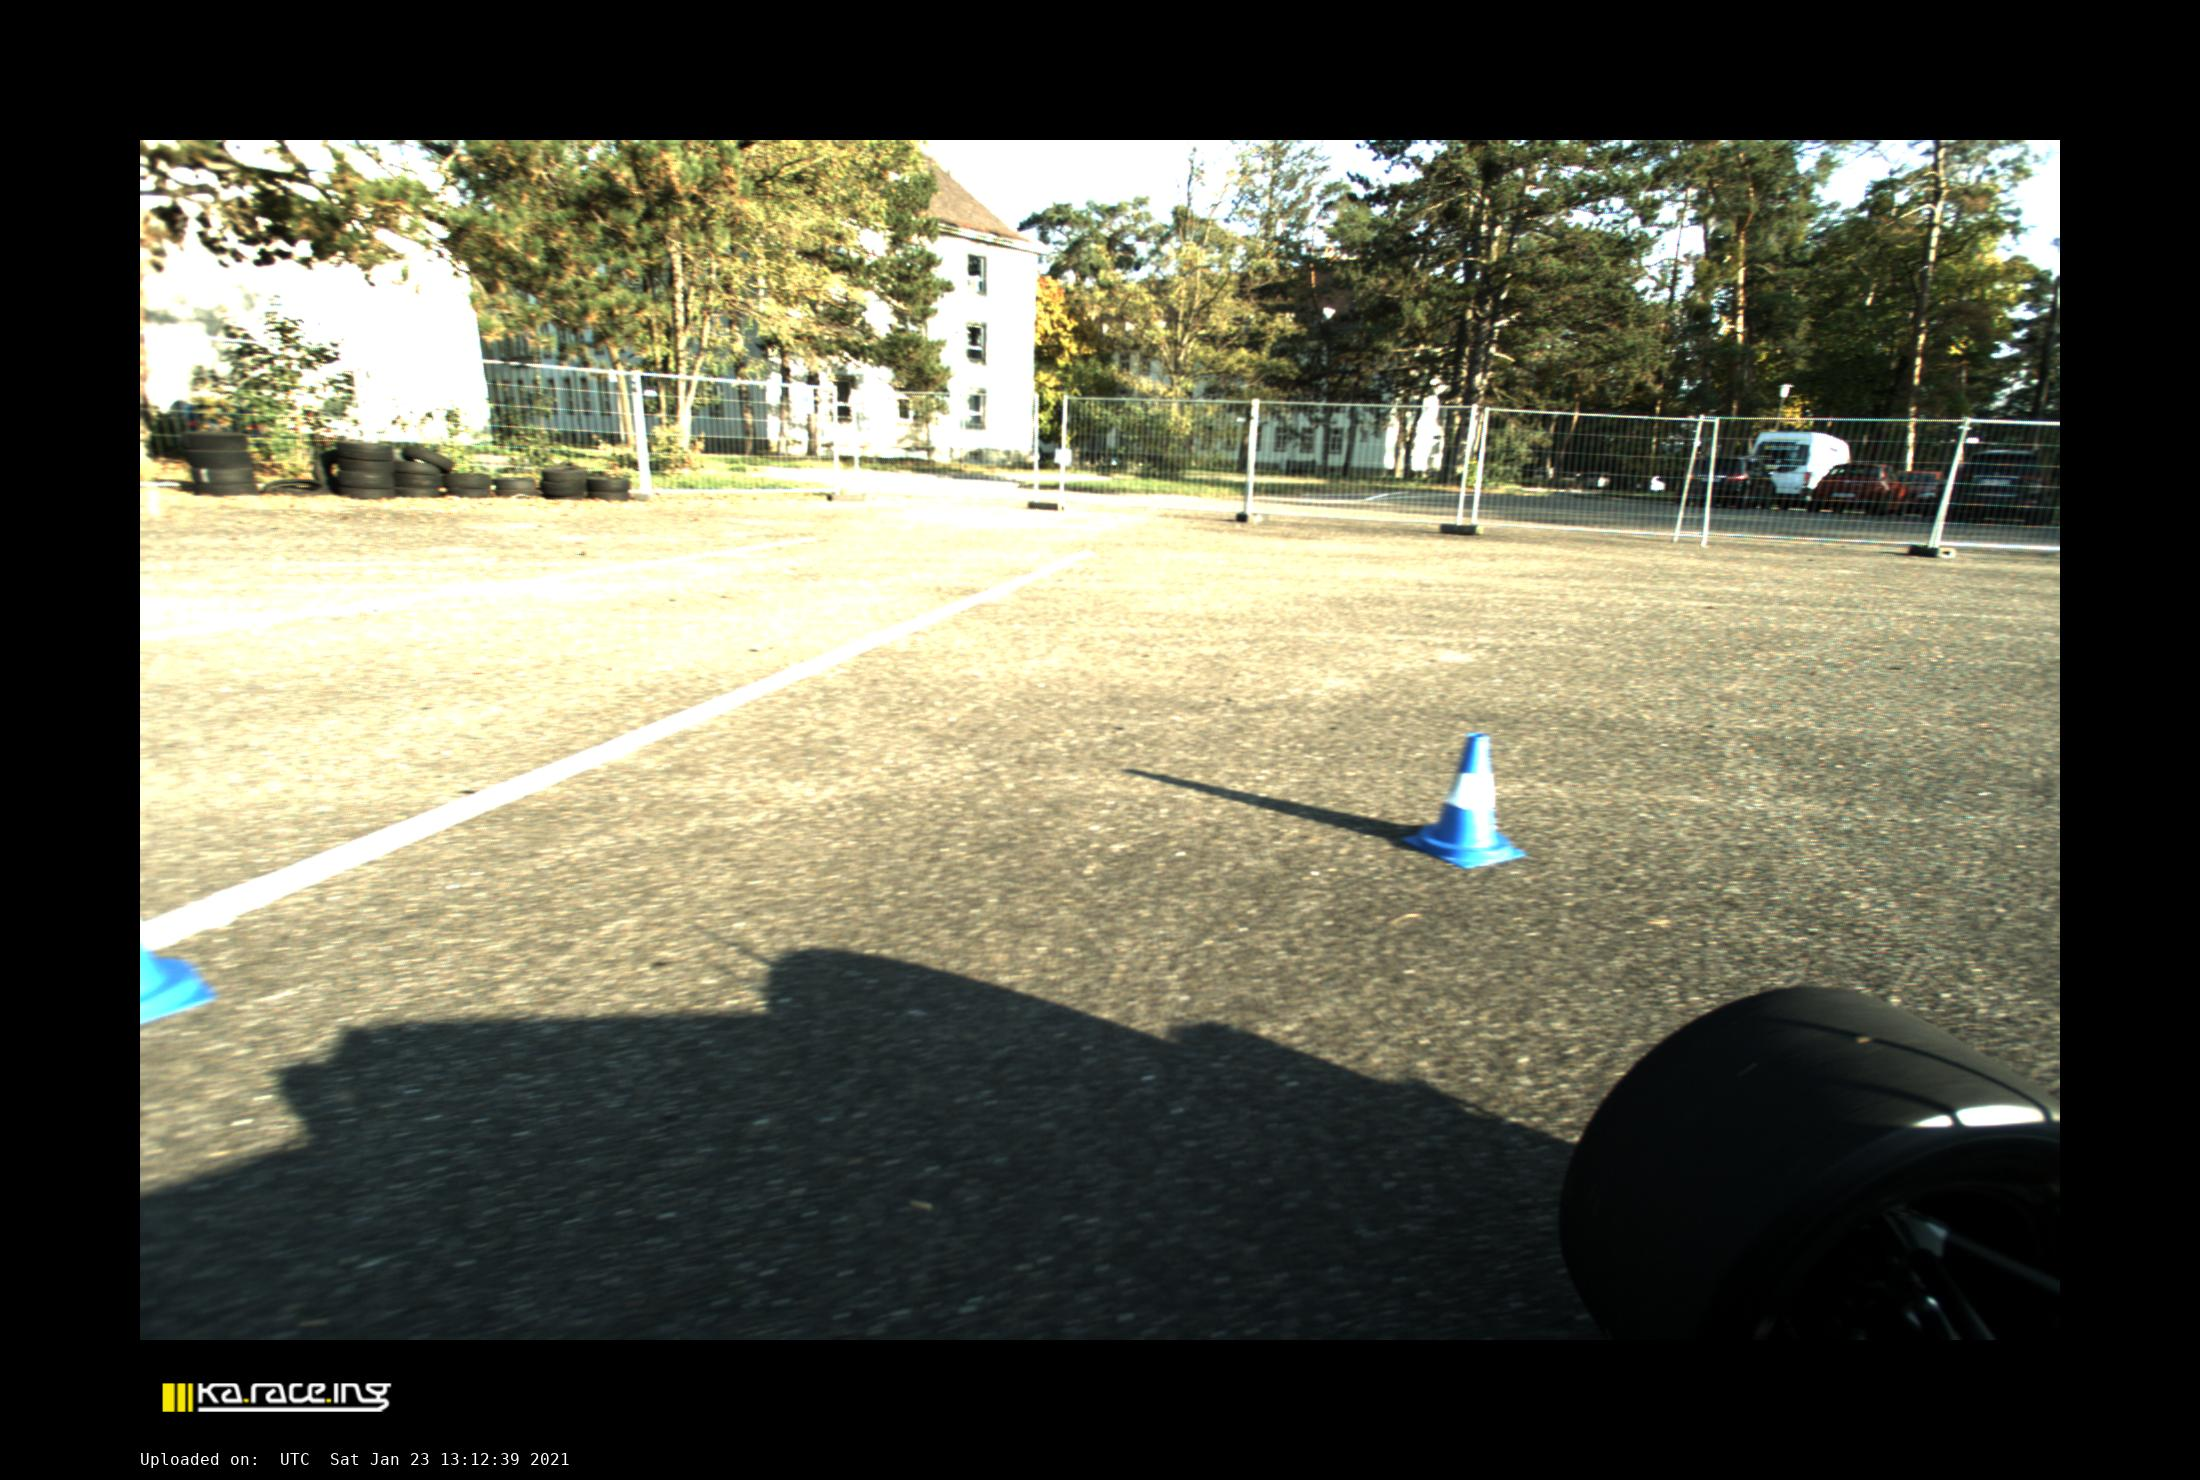blue_cone: (1399, 733, 1528, 869)
